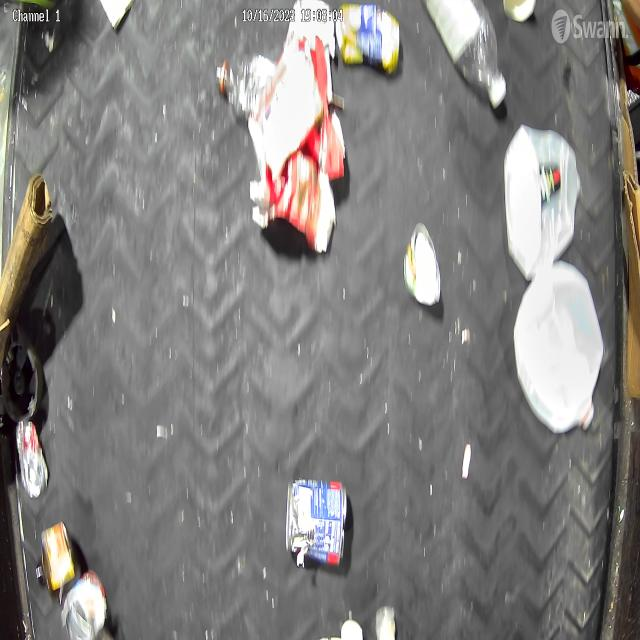can: (286, 472, 350, 569), (334, 0, 404, 79), (401, 223, 444, 308), (62, 565, 108, 640), (16, 418, 50, 499)
milk_jug: (512, 260, 605, 436), (502, 124, 582, 278)
plastic_bottle: (424, 0, 506, 111), (213, 49, 278, 121)
